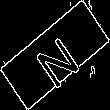N_NW: (27, 23, 83, 87)
